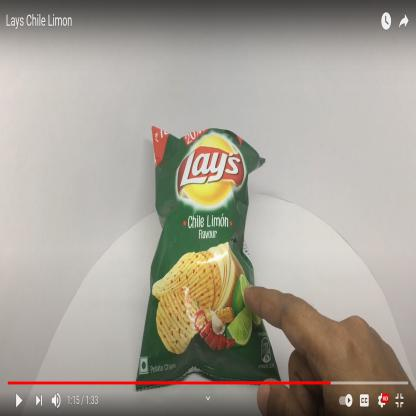chile_limon: (137, 124, 282, 388)
